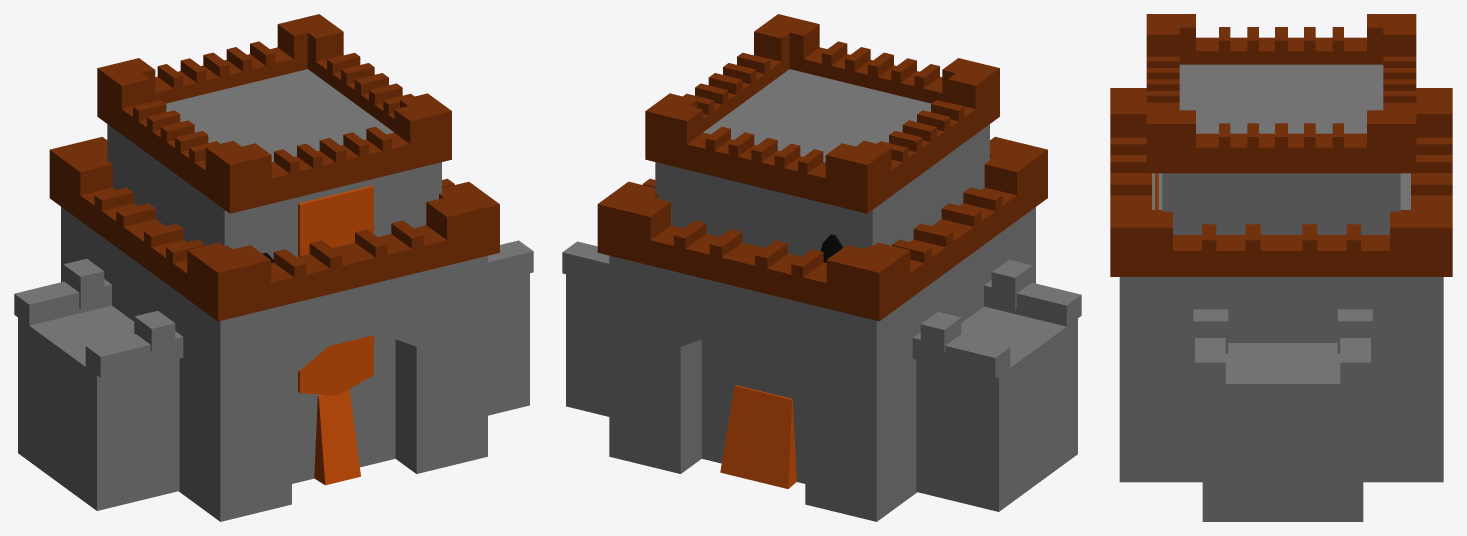
The model's file is Wall_huizen (1).fbx.
The picture shows the model from 3 angles, left to right: view 1: azimuth 30°, elevation 25°; view 2: azimuth 150°, elevation 25°; view 3: azimuth 270°, elevation 25°; orthographic projection.
Visible parts, largest first — view 1: Wall_Poort, Wall_toren, Wall_muur, Wall_tussenStuk; view 2: Wall_Poort, Wall_toren, Wall_muur, Wall_tussenStuk; view 3: Wall_Poort, Wall_toren, Wall_muur.
Part boxes in pixels (x1=…): Wall_Poort: x1=49, y1=136, x2=499, y2=521; Wall_toren: x1=97, y1=14, x2=451, y2=483; Wall_muur: x1=14, y1=240, x2=533, y2=510; Wall_tussenStuk: x1=314, y1=389, x2=360, y2=485; Wall_Poort: x1=597, y1=136, x2=1047, y2=521; Wall_toren: x1=645, y1=14, x2=999, y2=483; Wall_muur: x1=562, y1=241, x2=1081, y2=511; Wall_tussenStuk: x1=720, y1=385, x2=796, y2=488; Wall_Poort: x1=1110, y1=88, x2=1452, y2=482; Wall_toren: x1=1146, y1=14, x2=1416, y2=234; Wall_muur: x1=1193, y1=309, x2=1372, y2=521.
Bounding box in the file's own units: 411 × 309 × 277.
